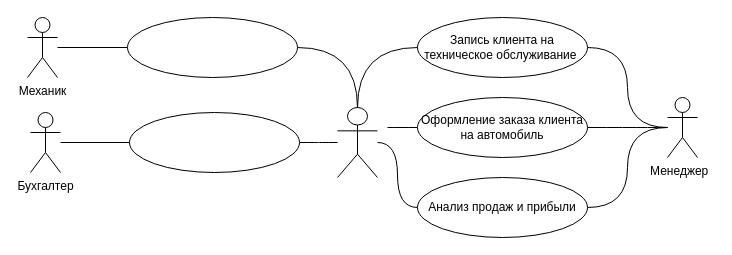
This 732x255 diagram has some shape labels left out. The shapes that lost their labels are listed below. From the top down, each one's centre as x and y in pixels, then its label:
(x=212, y=47): Проведение технического обслуживания
(x=214, y=142): Выставление счета клиенту за автомобиль
(x=357, y=142): Клиент
